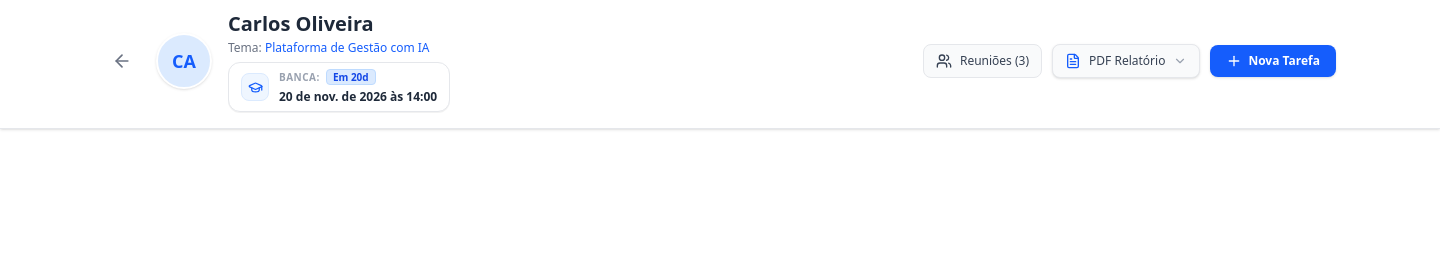
it: StudentHeader - PDF Report Usability › renders report button and toggles action menu
The image size is (1440, 271).
Click the button with aria-label "ações de relatório em pdf".
click(1126, 61)  # box [1052,44,1200,78]
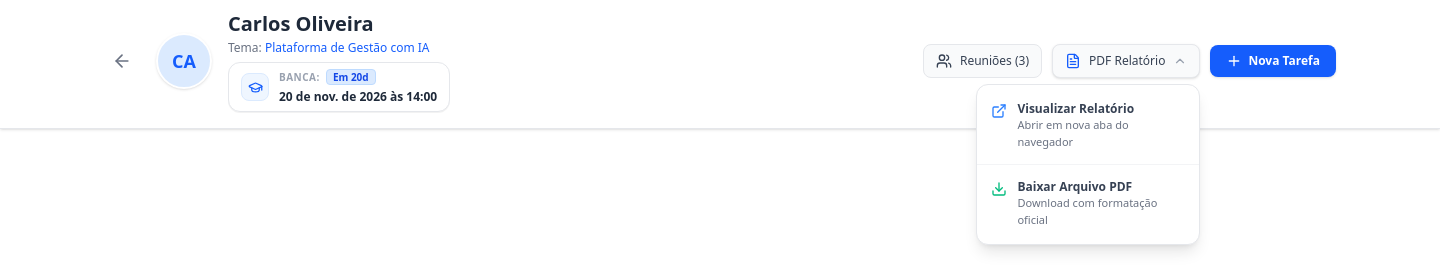
Now the menu item "Visualizar Relatório Abrir em nova aba do navegador" is shown, box [977,91,1199,160]
Now the menu item "Baixar Arquivo PDF Download com formatação oficial" is shown, box [977,169,1199,238]
